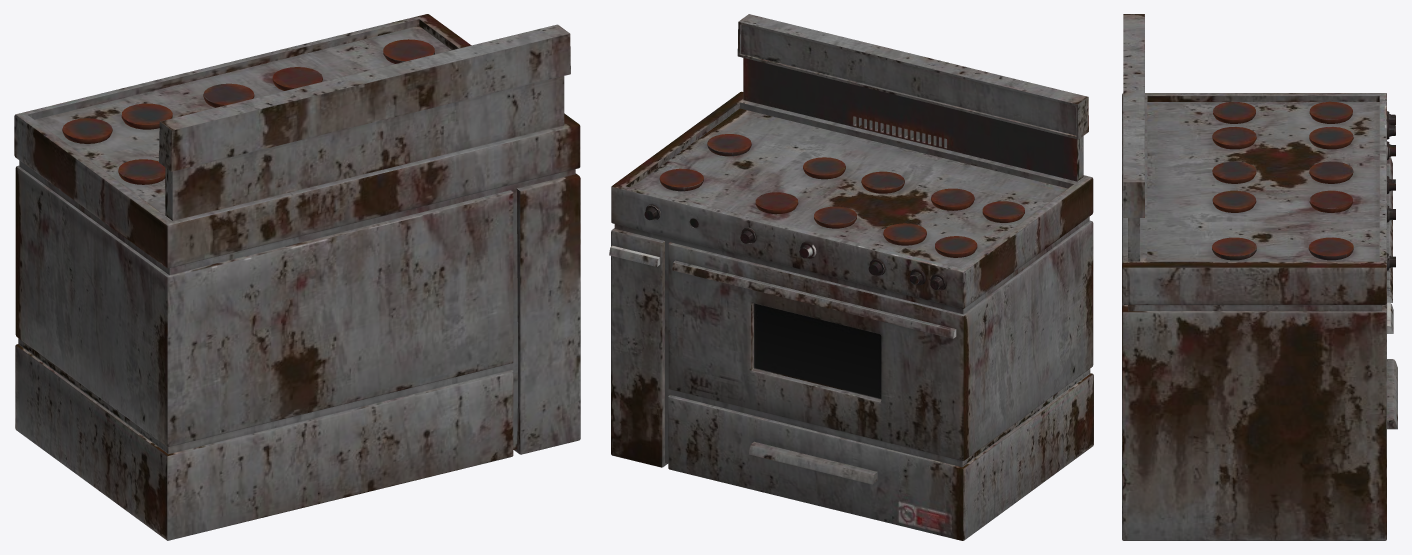
Rendered from range-galley.glb.
3 views of the same model, side by side, from view 1: azimuth 30°, elevation 25°; view 2: azimuth 150°, elevation 25°; view 3: azimuth 270°, elevation 25° (orthographic). The views are drawn at different scales.
Parts seen in each view (by area): view 1: range-galley; view 2: range-galley; view 3: range-galley.
Part boxes in pixels (x1=…): range-galley: x1=14, y1=14, x2=580, y2=540; range-galley: x1=609, y1=14, x2=1093, y2=540; range-galley: x1=1122, y1=14, x2=1397, y2=540.
Size of the model in its own units: 1.26 by 1.19 by 0.8386.
Materials: 1 (1 with a texture image).
